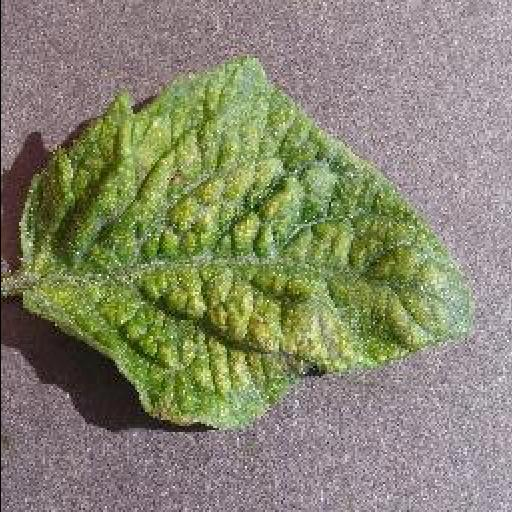disease_tomato: (18, 57, 478, 435)
